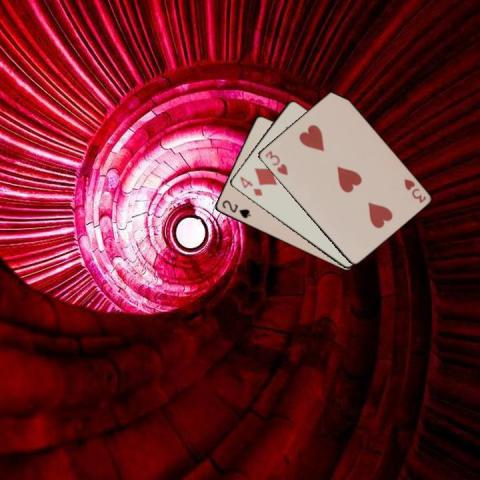2s: (219, 197, 252, 220)
3h: (262, 147, 289, 177), (401, 175, 427, 205)
4d: (237, 174, 263, 198)
